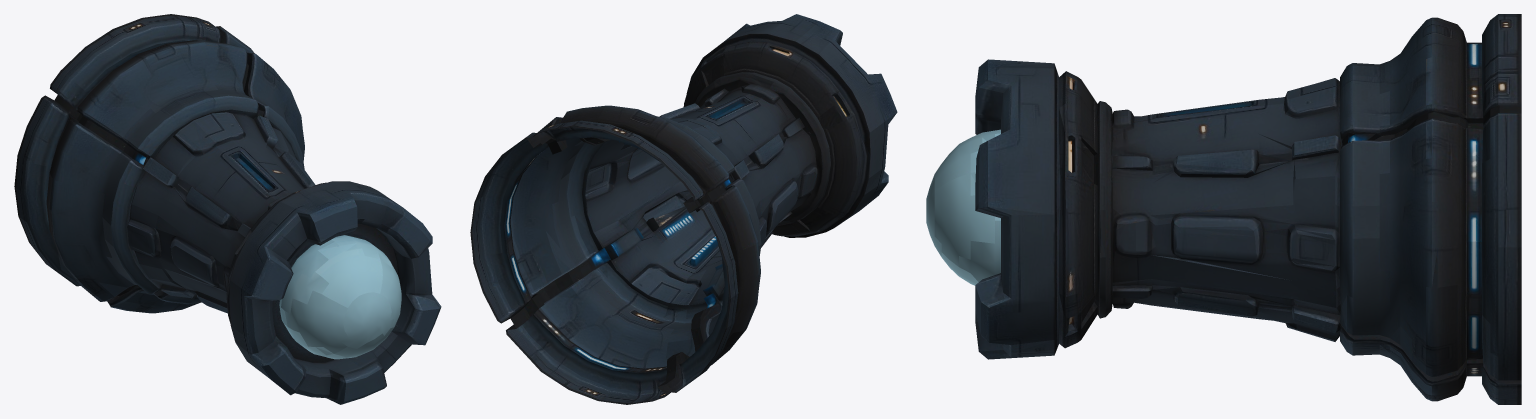
The model's file is rook.obj.
The picture shows the model from 3 angles, left to right: view 1: azimuth 30°, elevation 25°; view 2: azimuth 150°, elevation 25°; view 3: azimuth 270°, elevation 25°; orthographic projection. The views are drawn at different scales.
Parts seen in each view (by area): view 1: rook; view 2: rook; view 3: rook.
Boxes of the visible parts, x1,y1,x2,y2 form: rook: (14, 14, 441, 404); rook: (470, 14, 897, 404); rook: (926, 14, 1521, 404).
Bounding box in the file's own units: 1.19 × 1.19 × 1.8.
Materials: 1 (1 with a texture image).
